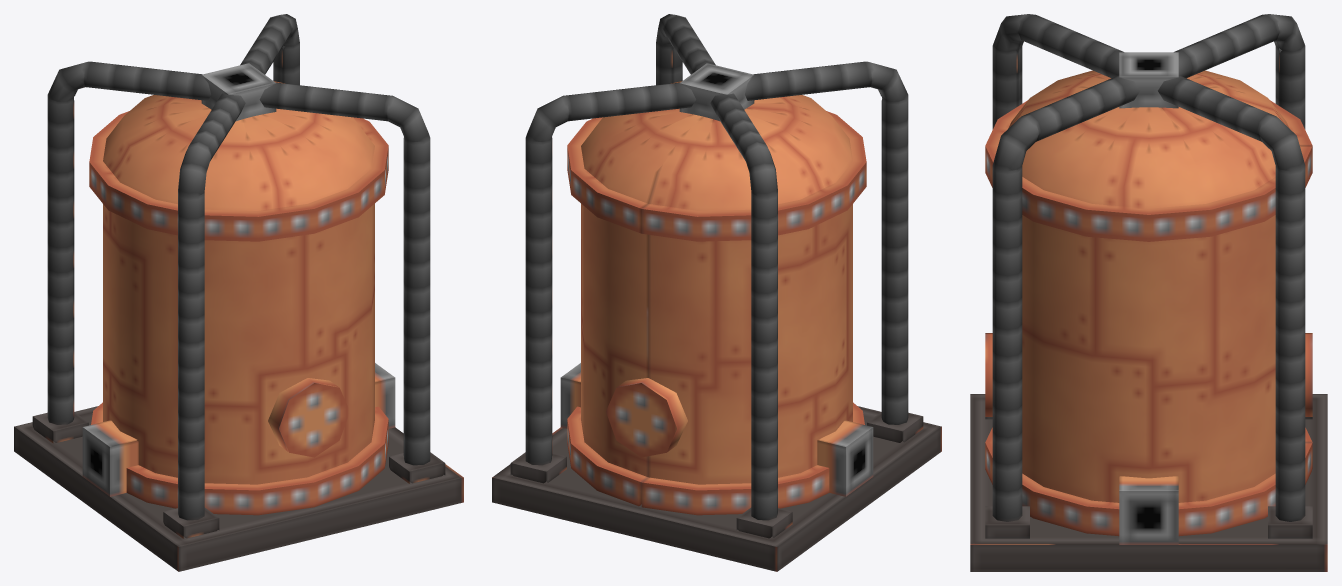
Rendered from boiler.obj.
3 views of the same model, side by side, from view 1: azimuth 30°, elevation 25°; view 2: azimuth 150°, elevation 25°; view 3: azimuth 270°, elevation 25° (orthographic). The views are drawn at different scales.
Parts seen in each view (by area): view 1: Plane; view 2: Plane; view 3: Plane.
Boxes of the visible parts, <box> form: Plane: <box>14,14,463,571</box>; Plane: <box>492,14,941,571</box>; Plane: <box>970,14,1327,571</box>.
Bounding box in the file's own units: 3 × 4 × 3.
